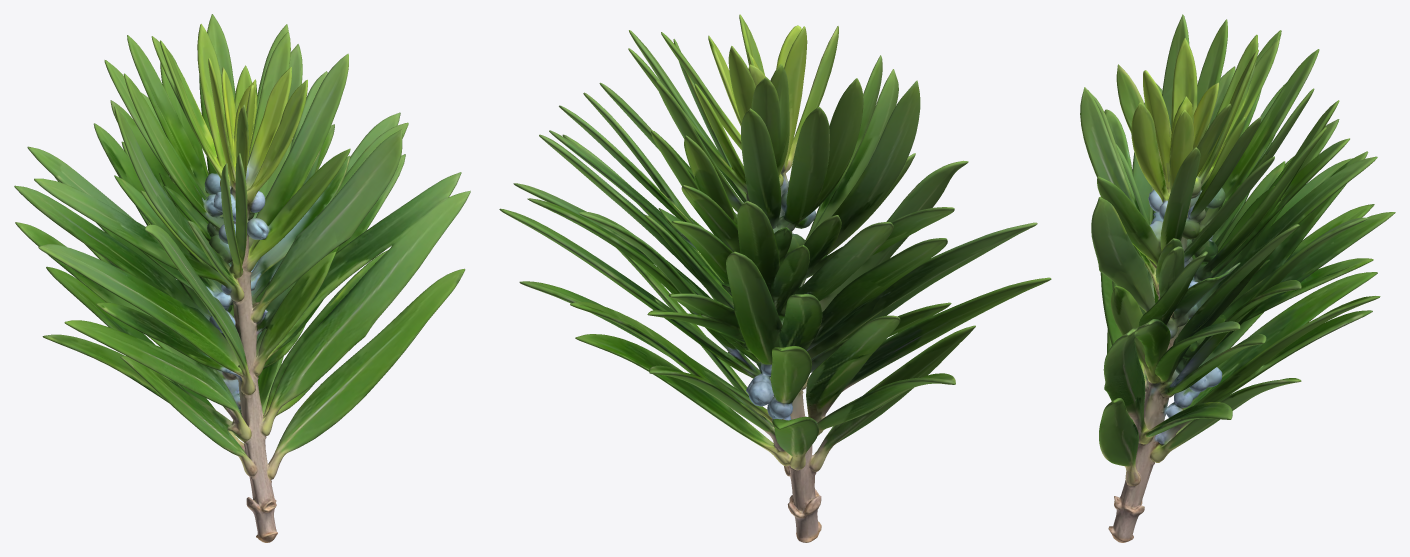
The model's file is baizi.glb.
The picture shows the model from 3 angles, left to right: view 1: azimuth 30°, elevation 25°; view 2: azimuth 150°, elevation 25°; view 3: azimuth 270°, elevation 25°; orthographic projection. The views are drawn at different scales.
Parts seen in each view (by area): view 1: node_0; view 2: node_0; view 3: node_0.
Boxes of the visible parts, <box> form: node_0: <box>14,14,470,542</box>; node_0: <box>499,14,1051,542</box>; node_0: <box>1080,14,1395,542</box>.
Bounding box in the file's own units: 1.04 × 1.11 × 0.6451.
1 material, 1 textured.
